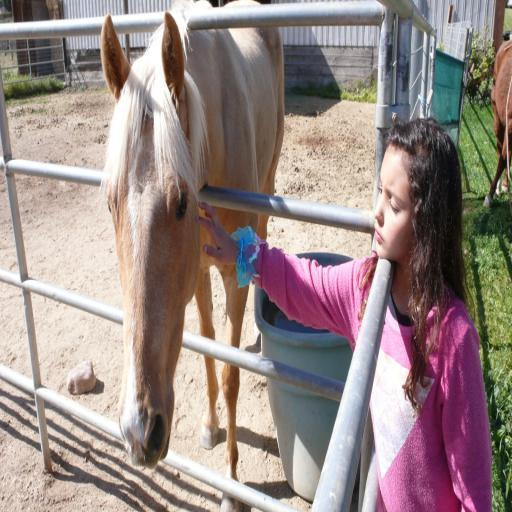horse: (96, 0, 287, 511), (482, 36, 512, 210)
